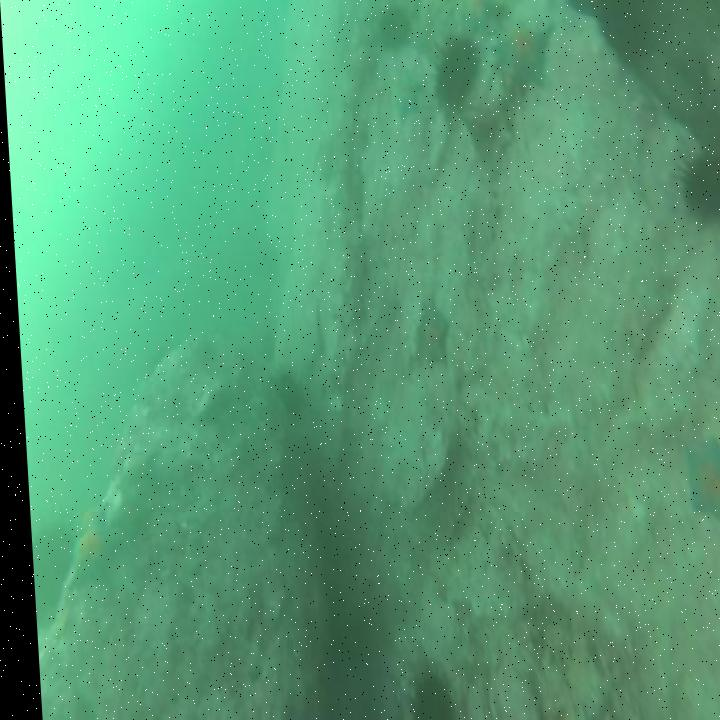echinus: (425, 30, 485, 118), (595, 0, 654, 71), (669, 148, 720, 224), (392, 659, 449, 720), (374, 0, 415, 60), (264, 370, 304, 421)
starfish: (57, 498, 123, 594), (671, 426, 720, 532), (488, 20, 556, 96), (407, 302, 449, 374), (387, 64, 427, 130)
